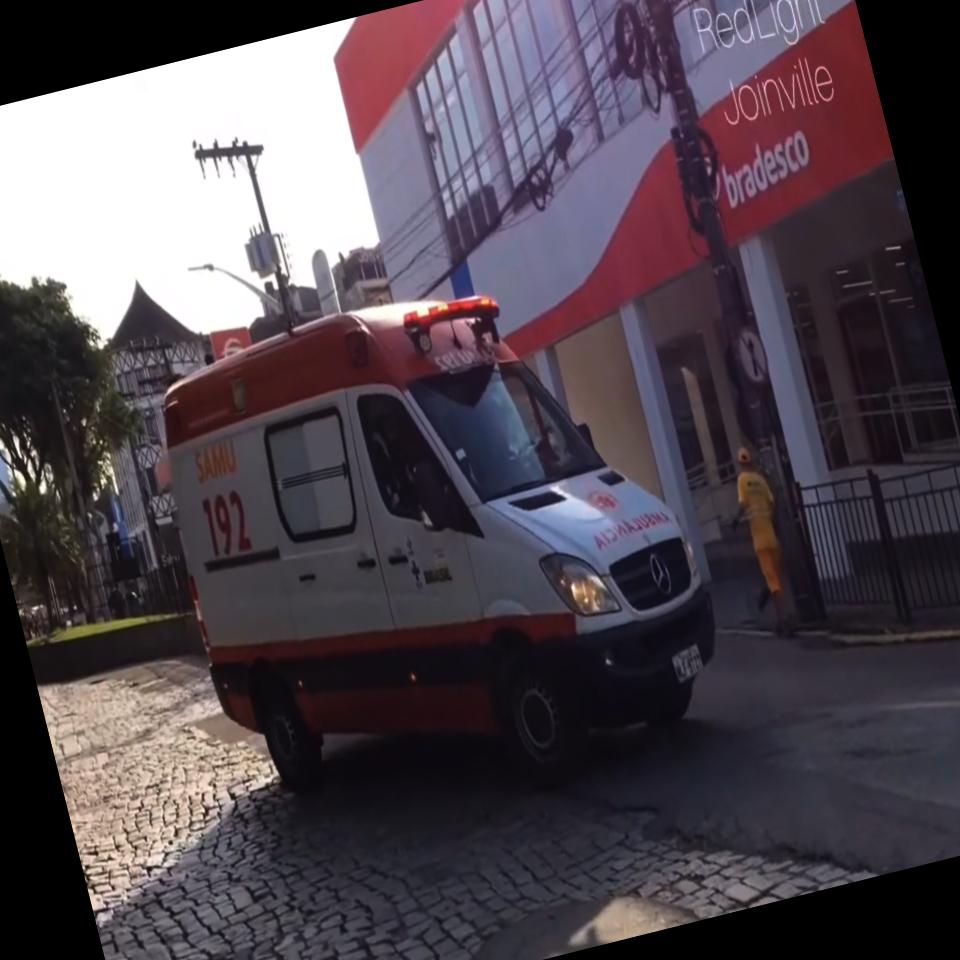bombeiro: (128, 236, 748, 867)
